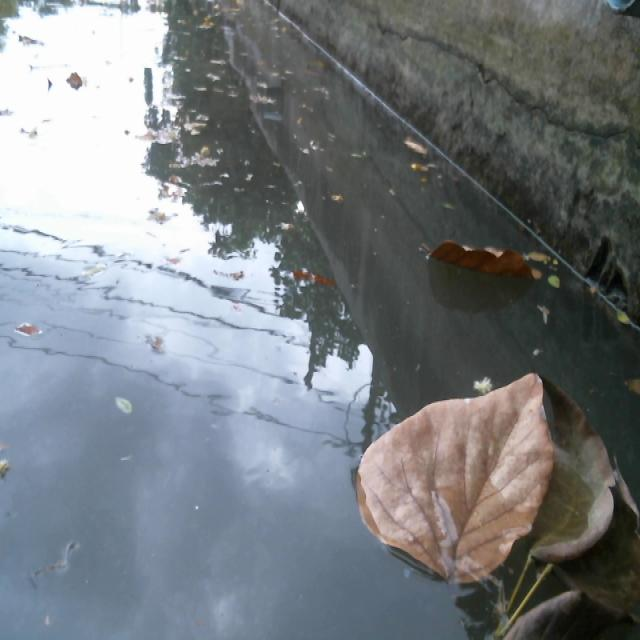Big-leaf: (339, 365, 555, 589), (488, 386, 639, 640)
Small-leaf: (283, 263, 345, 310), (396, 136, 439, 183), (10, 298, 48, 331), (603, 305, 635, 342), (623, 366, 640, 416), (545, 273, 566, 304), (112, 395, 136, 421)
